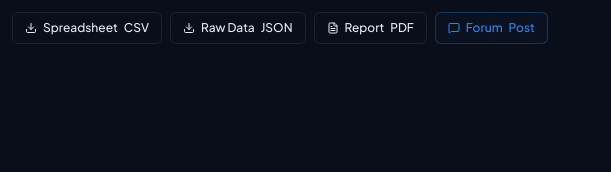
it: ExportButtons error feedback › shows Downloaded on JSON button on success
Click the button "Raw Data JSON": (238, 28) [170,12,306,44]
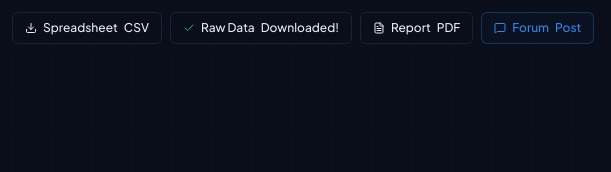
Result: the button "Raw Data Downloaded!" is shown at [170,12,352,44]
